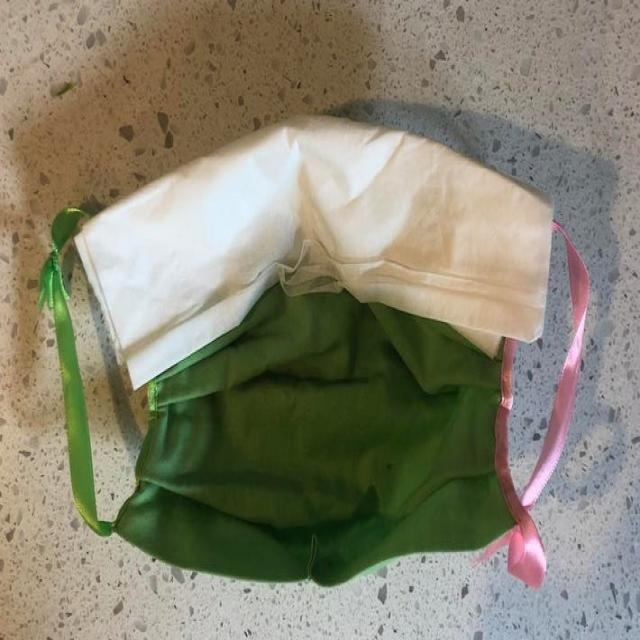face mask: (26, 111, 592, 605)
